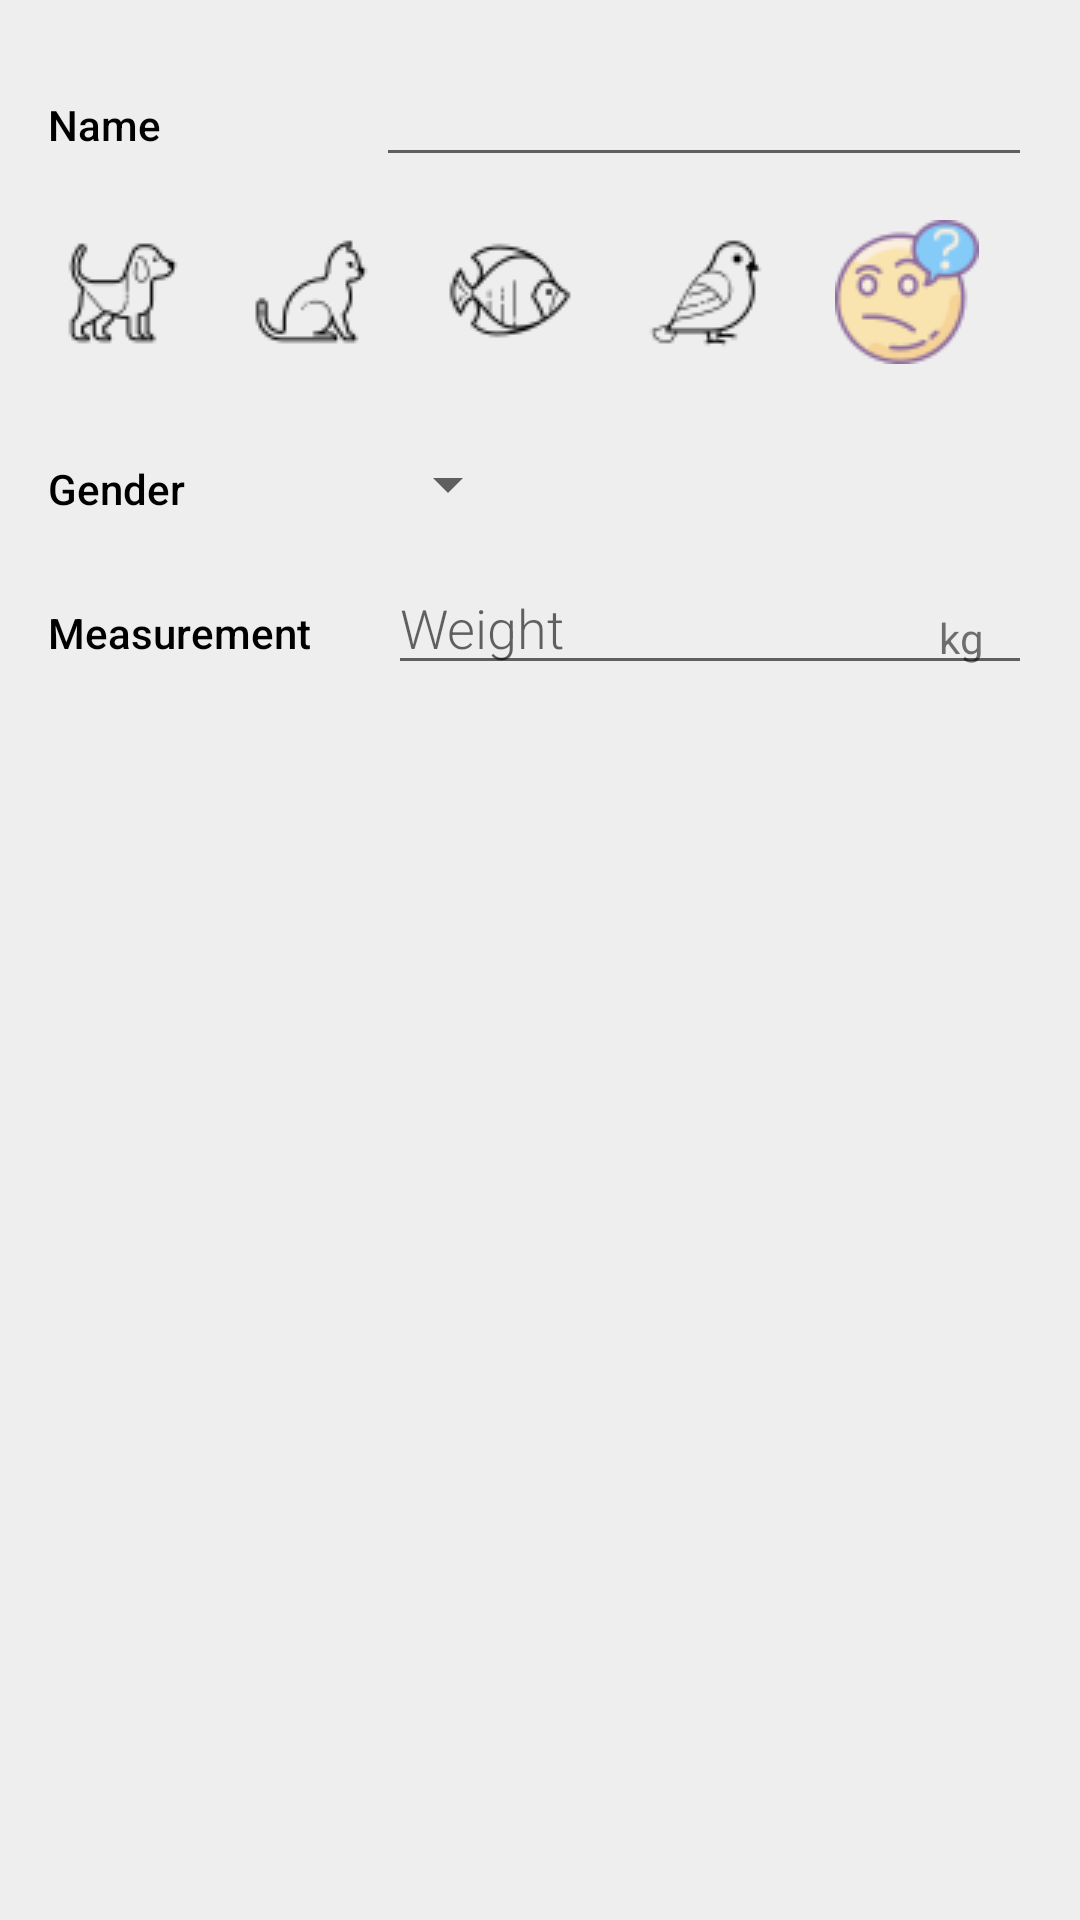

Icon bounding boxes for this 1080×1920 phone screenshot, format [x1=x1, y1=y1, x2=x2, y2=y2]:
bird: [x1=651, y1=240, x2=761, y2=346]
cat: [x1=255, y1=240, x2=367, y2=344]
dog: [x1=69, y1=243, x2=177, y2=344]
fish: [x1=449, y1=243, x2=571, y2=338]
other: [x1=835, y1=220, x2=979, y2=364]
